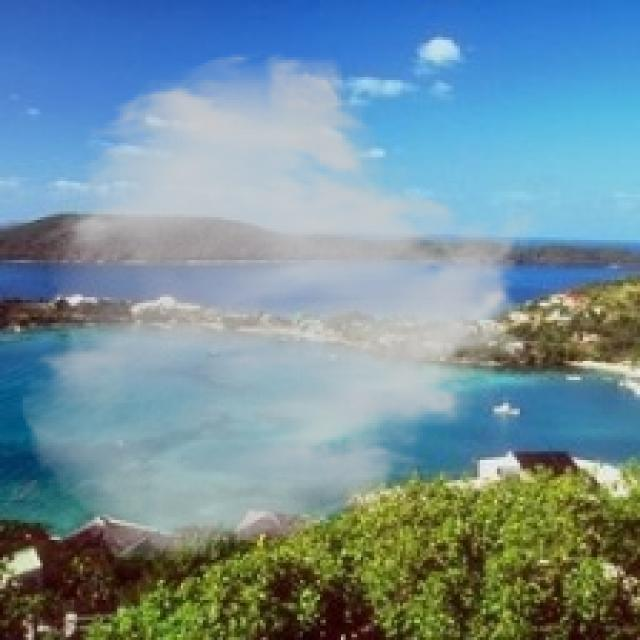Smoke: (17, 48, 546, 566)
